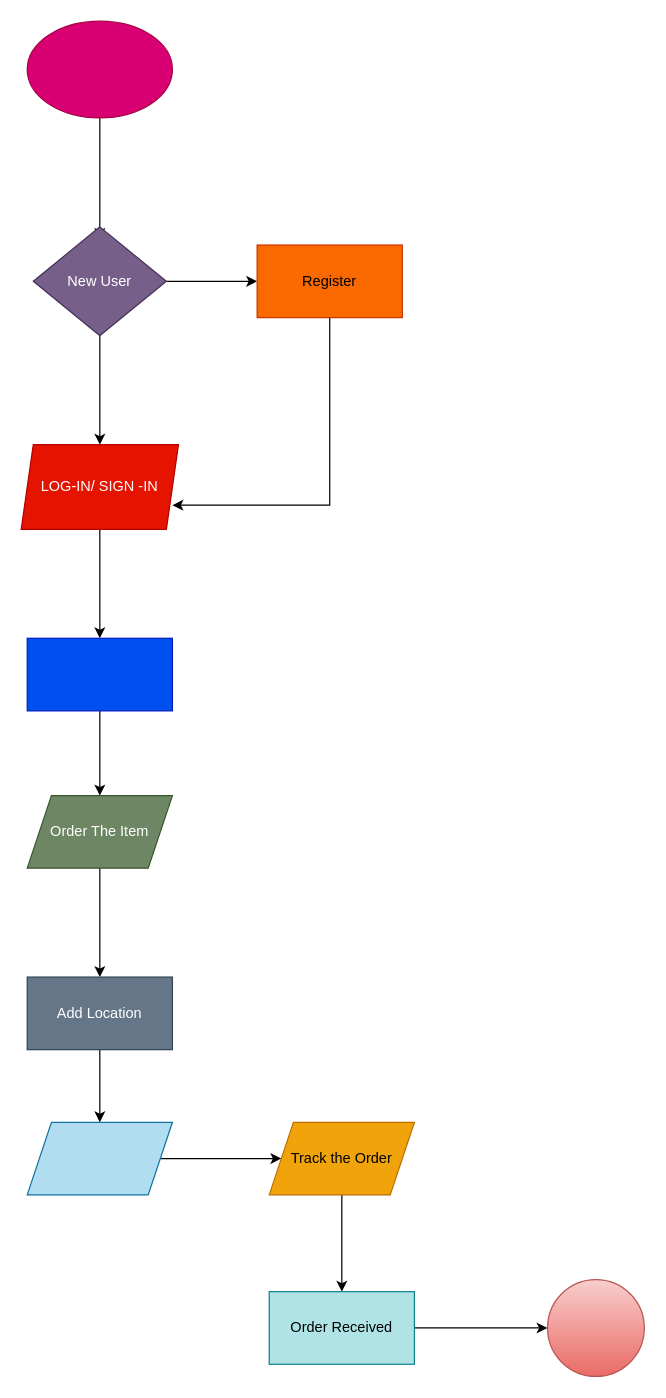
The diagram is 666 pixels wide and 1398 high, and some of its shapes have lost their labels. Each missing label, with the centre of its shape:
Close the APP: point (595, 1327)
Install application: point (99, 69)
Payment Options: point (99, 1158)
Search for the Item: point (99, 674)
